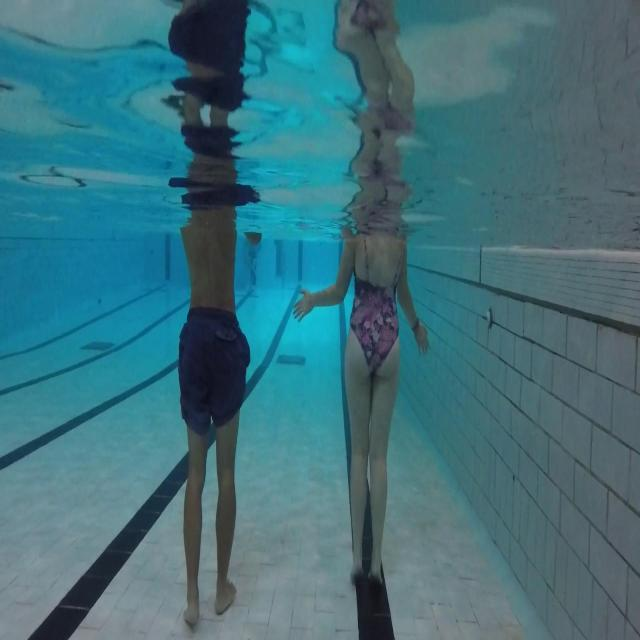human: (292, 1, 430, 586), (165, 1, 262, 626)
